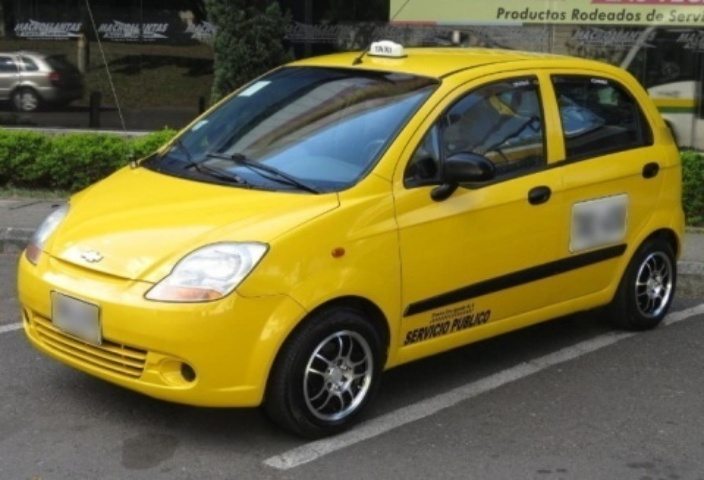taxi: (6, 36, 704, 439)
